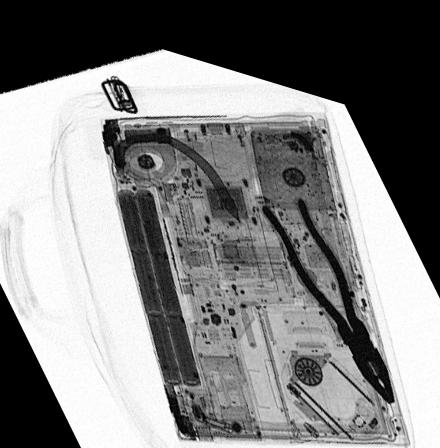Pliers: (258, 177, 398, 381)
